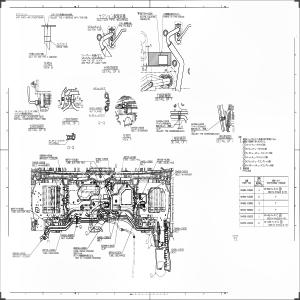PartNumber: (42, 248, 56, 252), (73, 246, 87, 250), (191, 122, 204, 126), (240, 188, 253, 192), (240, 208, 253, 212), (240, 221, 253, 225), (12, 252, 26, 255), (10, 207, 24, 210), (139, 12, 153, 15), (131, 126, 145, 129), (61, 234, 74, 237), (39, 154, 52, 157), (32, 161, 45, 164), (140, 160, 153, 163), (157, 158, 170, 161), (175, 169, 188, 172), (97, 236, 110, 239), (101, 244, 114, 247), (109, 251, 122, 254), (174, 227, 187, 230), (171, 248, 184, 251), (241, 195, 254, 198), (240, 215, 253, 218), (66, 158, 78, 161), (124, 155, 136, 158), (95, 158, 108, 160), (89, 107, 102, 109), (156, 120, 169, 122), (241, 202, 254, 204)
